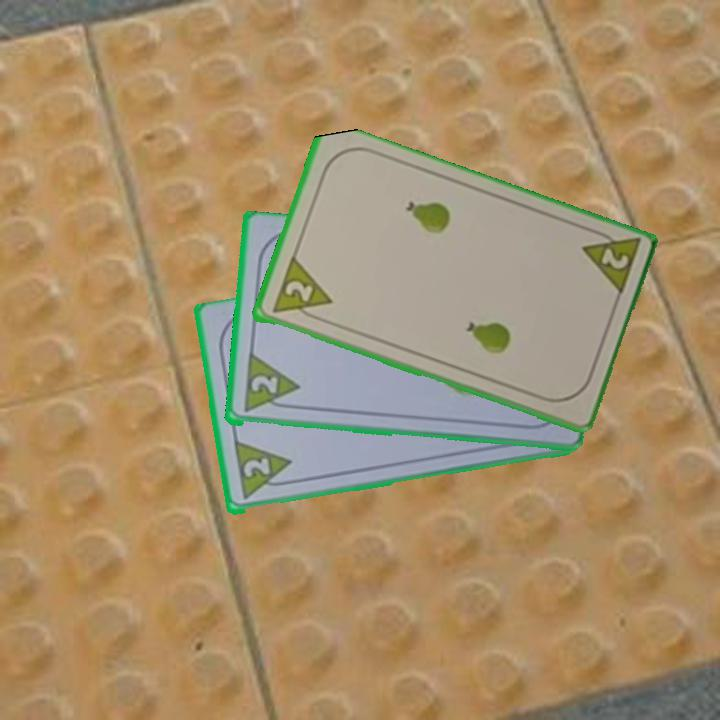2p: (577, 224, 643, 301), (230, 439, 297, 503), (239, 353, 301, 416), (280, 277, 316, 306)
